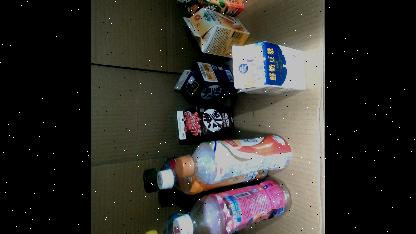Plastic Bottle: (172, 177, 291, 234), (174, 134, 292, 184), (156, 166, 268, 194), (144, 207, 201, 234), (142, 154, 180, 186)
